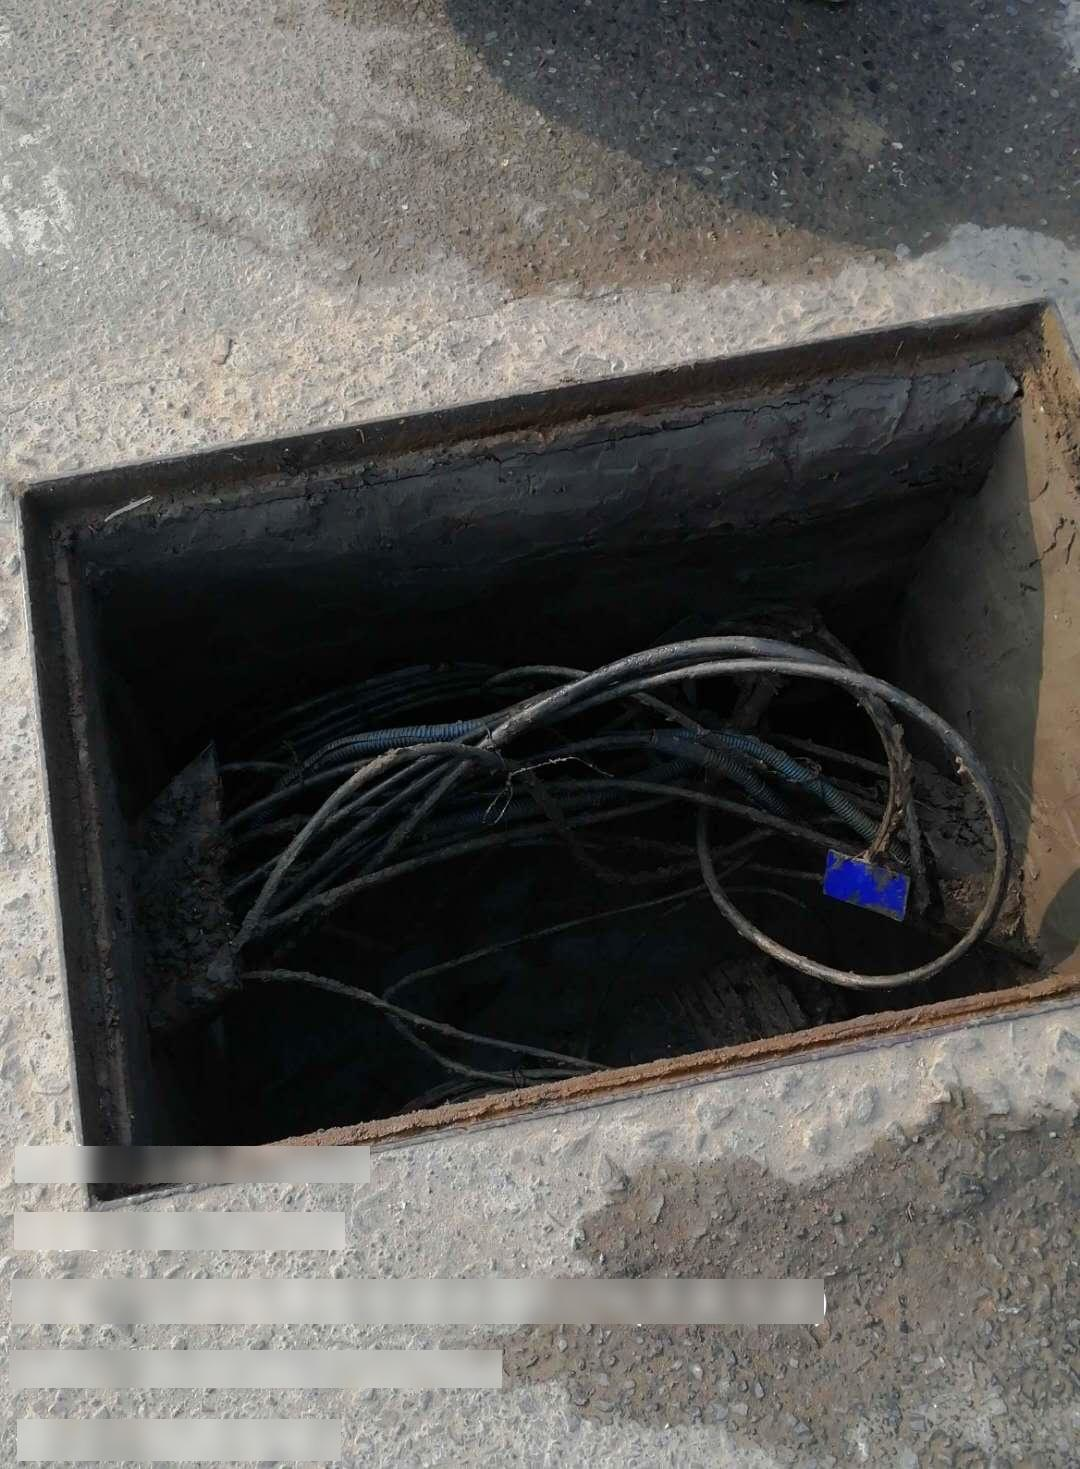wellcover: (5, 285, 1080, 1207)
